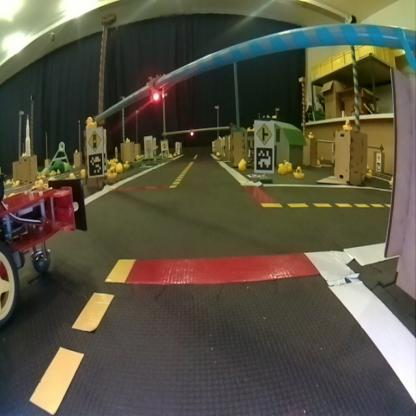Duckie: (293, 166, 304, 178), (85, 116, 96, 128), (342, 120, 352, 130), (278, 163, 286, 172), (365, 169, 372, 178), (237, 158, 243, 168)
Duckiebot: (0, 177, 88, 313)
Intersection sign: (254, 122, 272, 142)
QR code: (255, 145, 272, 170), (88, 152, 102, 174)
Signal sign: (87, 130, 101, 148), (161, 140, 167, 148)
Traffic light: (148, 72, 165, 100)
